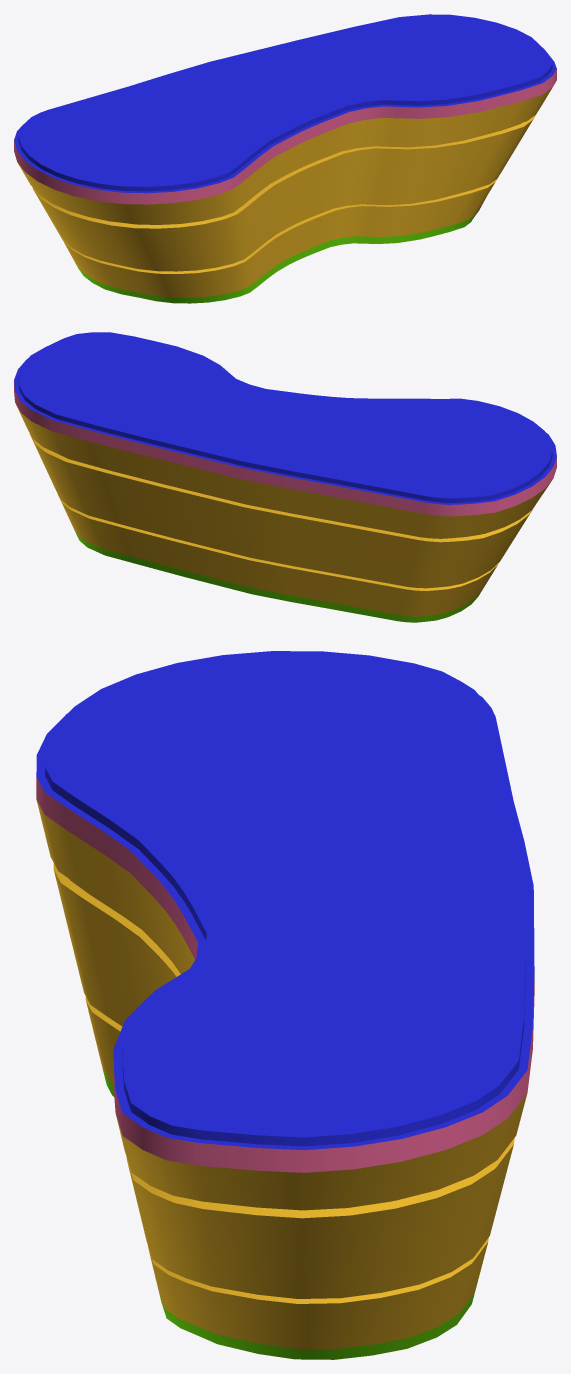
Rendered from table_large2.fbx.
The picture shows the model from 3 angles, top to bottom: view 1: azimuth 30°, elevation 25°; view 2: azimuth 150°, elevation 25°; view 3: azimuth 270°, elevation 25°; orthographic projection. The views are drawn at different scales.
Parts seen in each view (by area): view 1: Circle; view 2: Circle; view 3: Circle.
Boxes of the visible parts, <box> form: Circle: <box>14,14,556,303</box>; Circle: <box>14,332,556,622</box>; Circle: <box>36,651,534,1359</box>.
Bounding box in the file's own units: 646 × 172 × 276.
